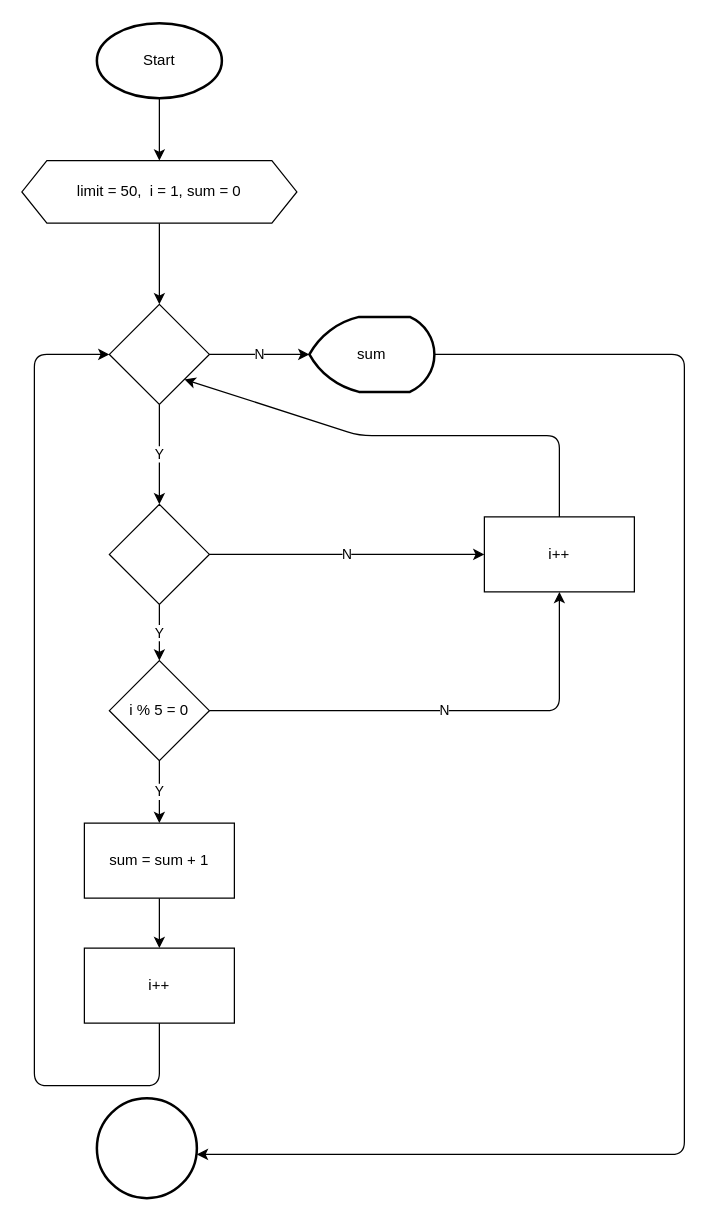
The diagram is 716 pixels wide and 1220 high, and some of its shapes have lost their labels. Here are the shapes that lost their labels. From the top down, the centre of each, then its label:
At pixel 158 353: "i <= limit".
At pixel 158 553: "i % 3 = 0".
At pixel 146 1147: "Stop".
